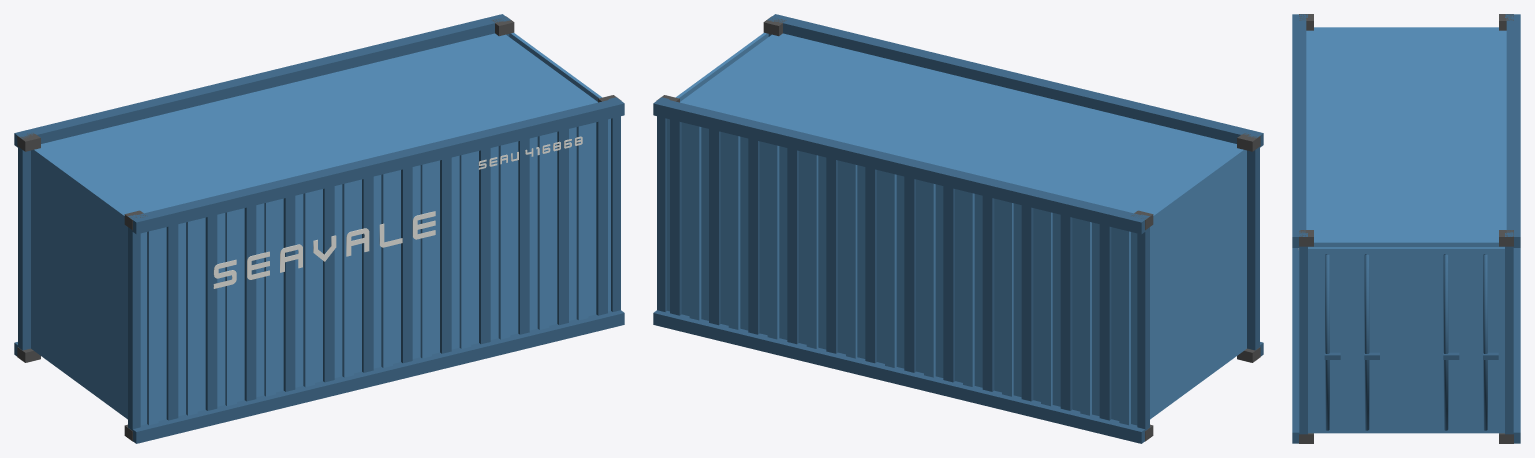
Rendered from container_1.glb.
3 views of the same model, side by side, from view 1: azimuth 30°, elevation 25°; view 2: azimuth 150°, elevation 25°; view 3: azimuth 270°, elevation 25° (orthographic). The views are drawn at different scales.
Parts seen in each view (by area): view 1: container_1; view 2: container_1; view 3: container_1.
Boxes of the visible parts, left/top/right/bottom form: container_1: left=14, top=14, right=624, bottom=443; container_1: left=653, top=14, right=1263, bottom=443; container_1: left=1292, top=14, right=1520, bottom=443.
Bounding box in the file's own units: 6.11 × 2.6 × 2.6.
